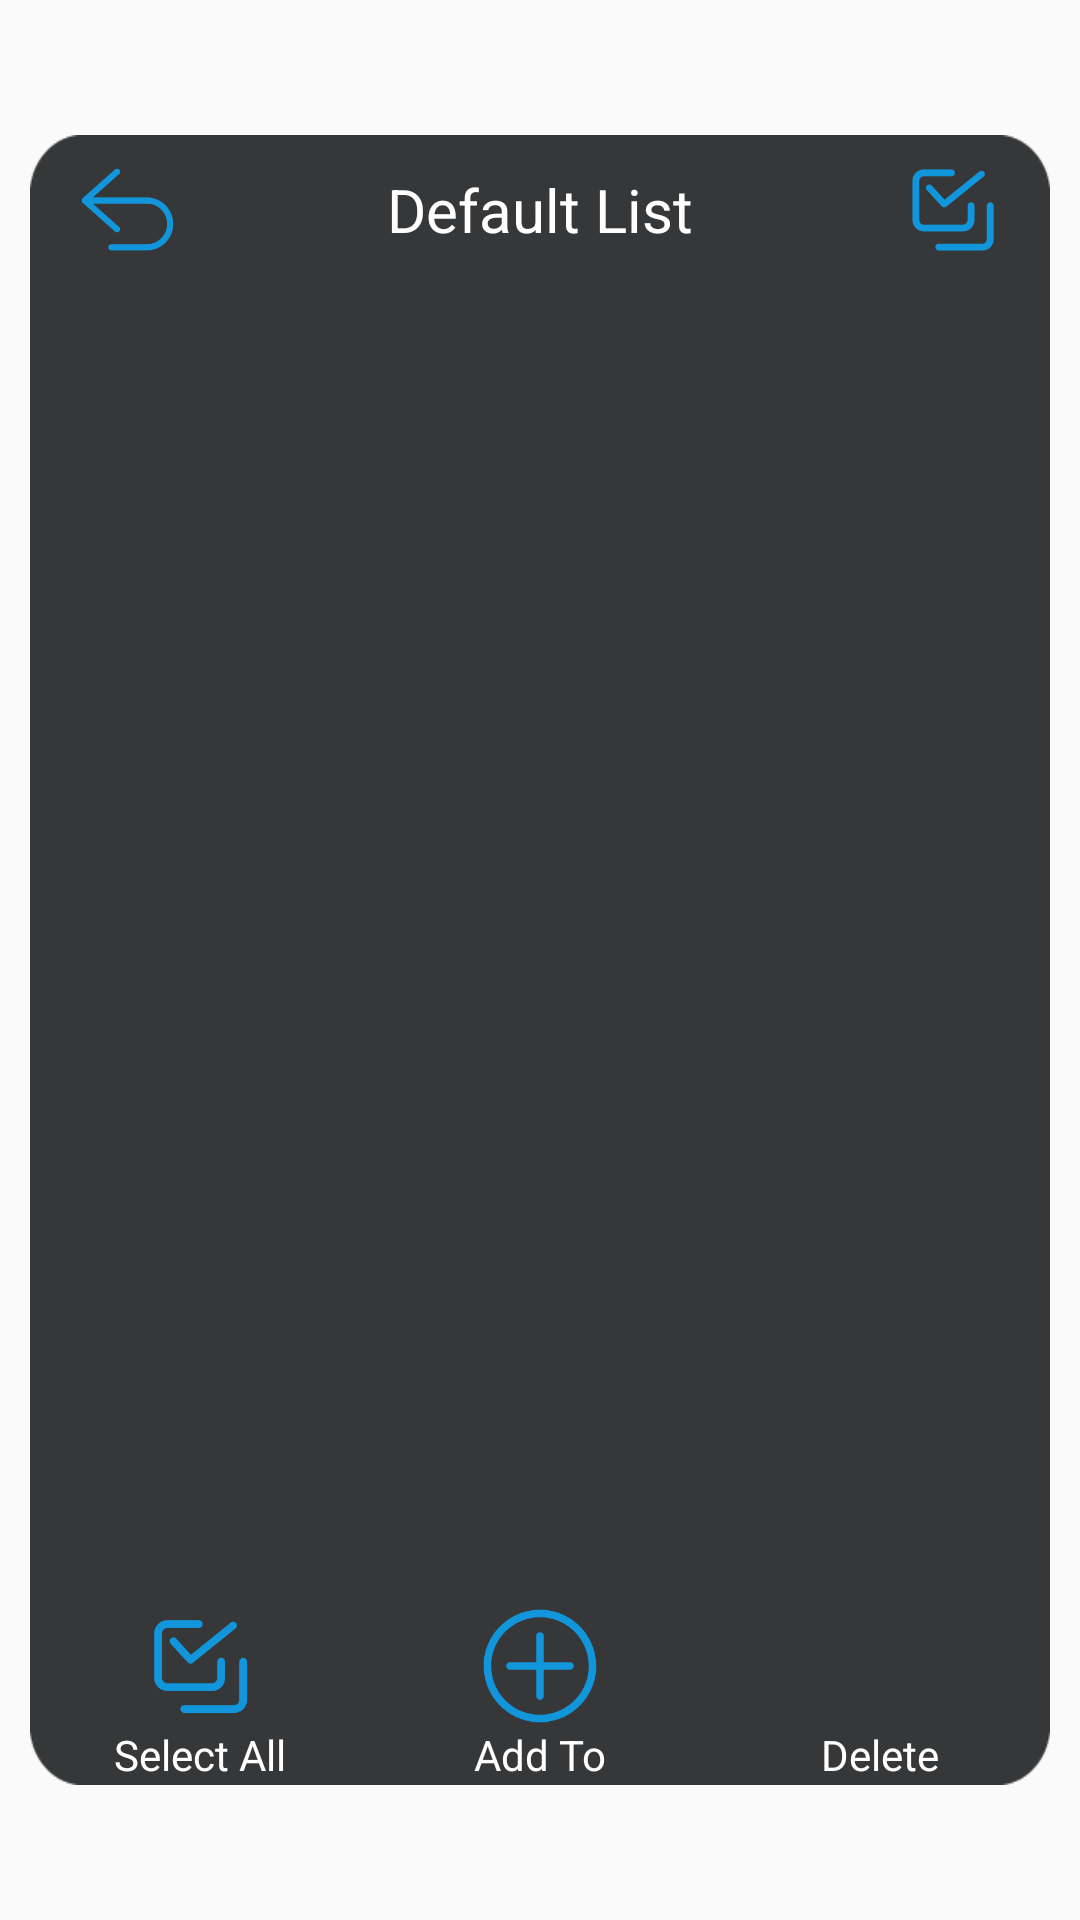

Icons on this 1080px x 1920px Android screen, each with the point to tap as [x,y]:
back pre: [127,209]
checkbox pre: [953,210], [200,1666]
